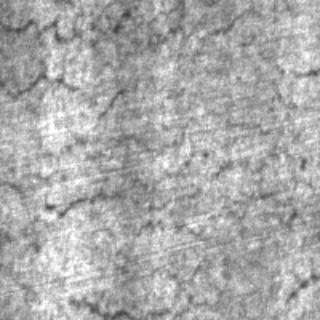crazing: (0, 70, 202, 234), (27, 150, 289, 250), (0, 8, 234, 102), (85, 0, 281, 58)
